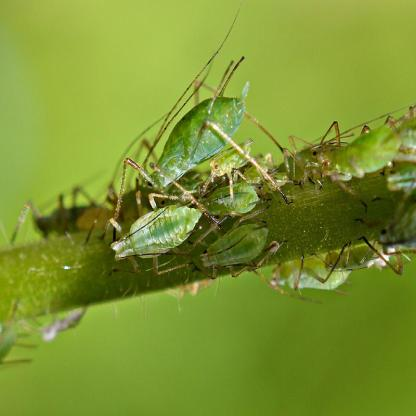aphid: (121, 64, 278, 180), (102, 192, 205, 270), (184, 204, 284, 283), (296, 115, 410, 183), (18, 185, 111, 238), (264, 245, 352, 298), (189, 164, 263, 226), (324, 227, 404, 279)
